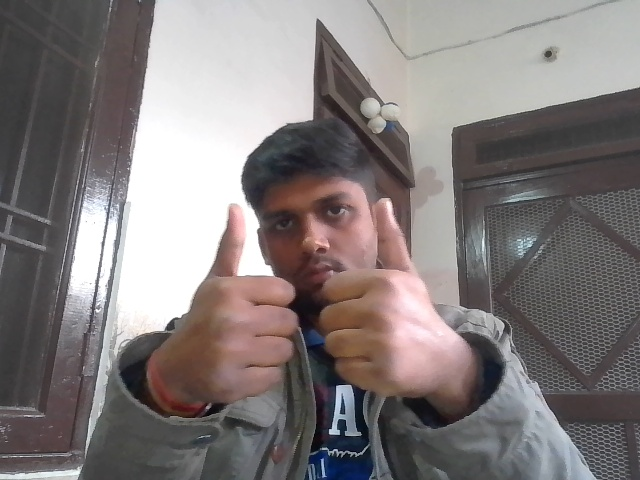Excellent: (165, 197, 443, 408)
